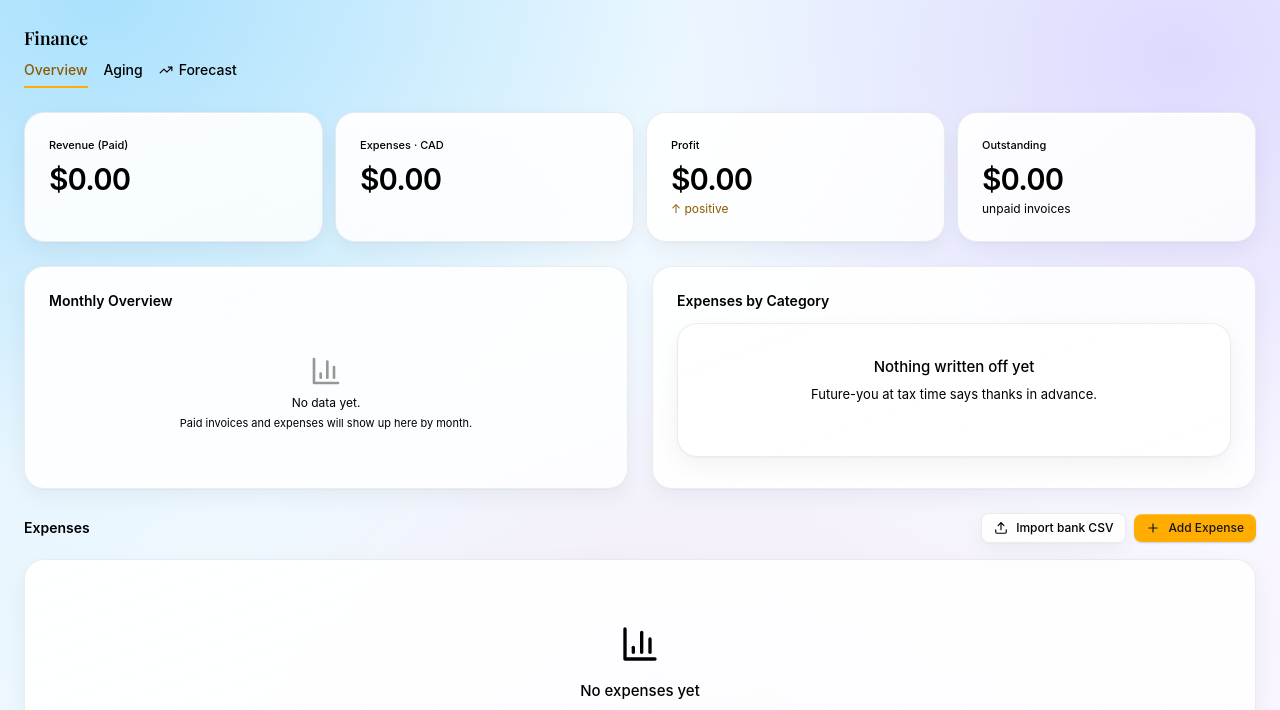
Finance tabs survive the split › forecast tab shows runway scrubber, money flow and runway card
This screenshot has width=1280, height=710.
Expected: the button "Overview" is shown, [24,60,88,88]
Click the button "Forecast": (198, 74) [159,60,237,88]
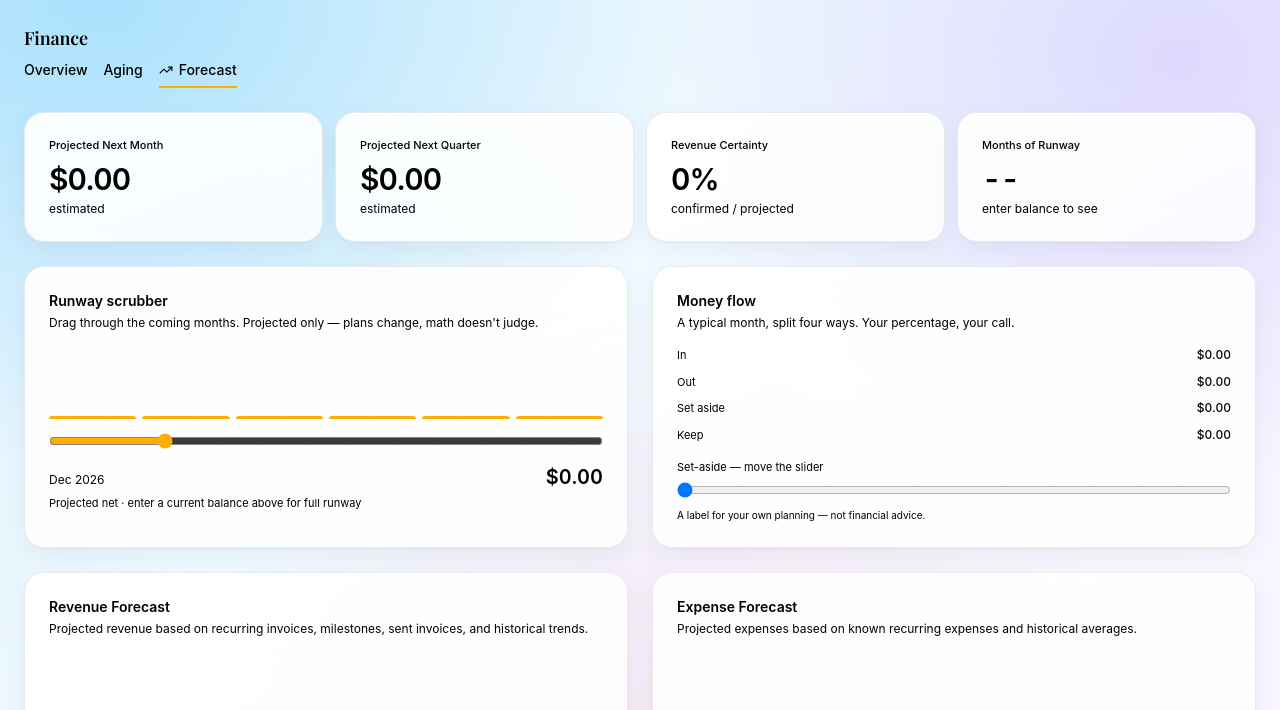
Expected: the heading "Runway scrubber" is shown, [49,292,168,309]
Expected: the heading "Money flow" is shown, [677,292,756,309]
Expected: the text "Months of Runway" is shown, [982,138,1080,152]
